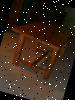Mesa: (1, 11, 75, 85)
